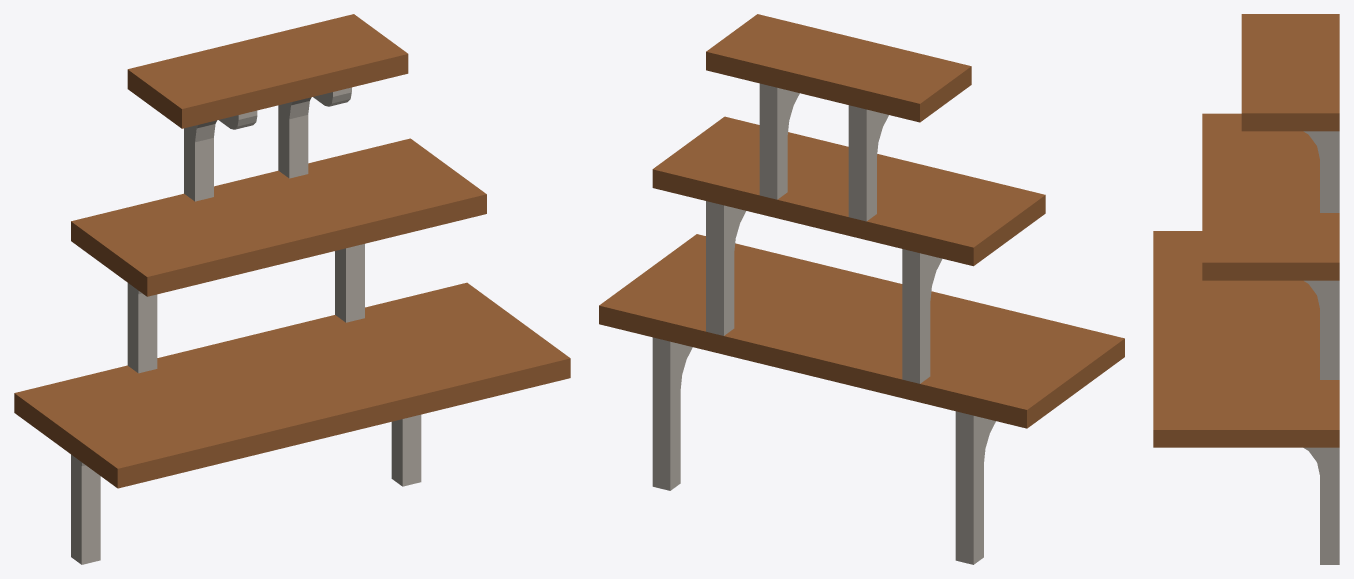
File: Shelf.glb
3 views of the same model, side by side, from view 1: azimuth 30°, elevation 25°; view 2: azimuth 150°, elevation 25°; view 3: azimuth 270°, elevation 25° (orthographic). The views are drawn at different scales.
Visible parts, largest first — view 1: Node; view 2: Node; view 3: Node.
Part boxes in pixels (box(x1,y1,x2,y2)): Node: box(14, 14, 570, 564); Node: box(599, 14, 1124, 564); Node: box(1153, 14, 1339, 564).
Bounding box in the file's own units: 24 × 24 × 9.5.
